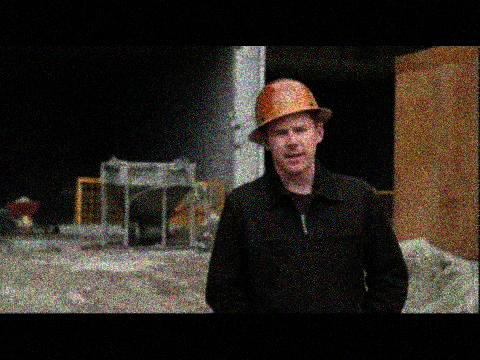helmet: (247, 74, 332, 174)
